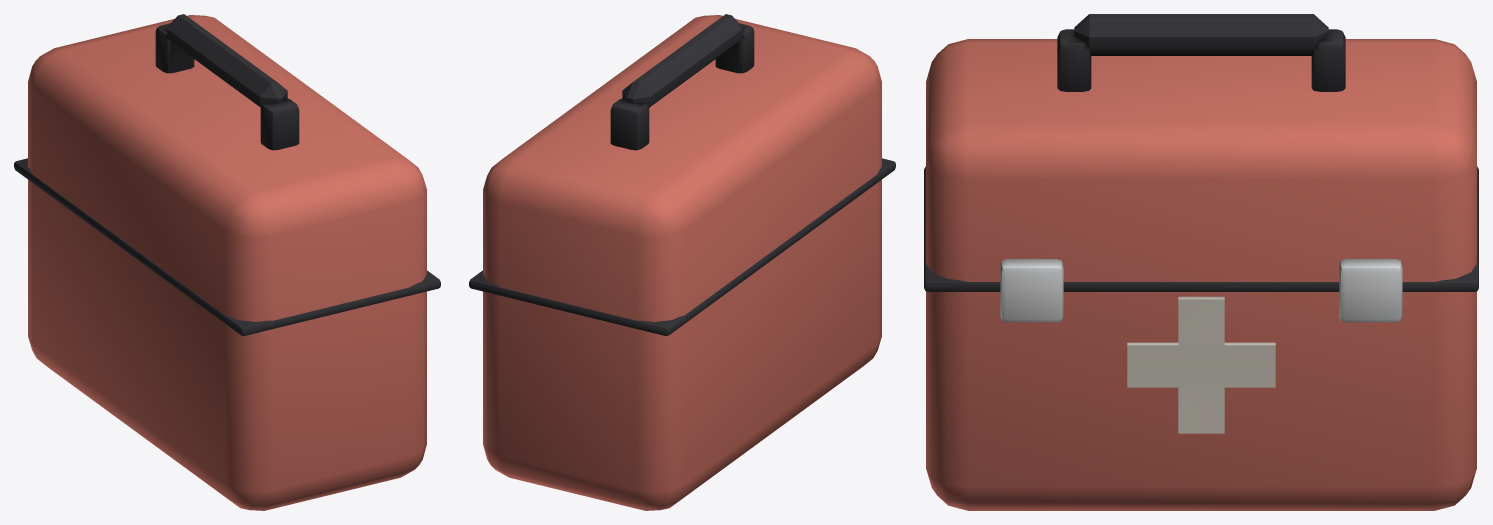
File: nd_first_aid.glb
The picture shows the model from 3 angles, left to right: view 1: azimuth 30°, elevation 25°; view 2: azimuth 150°, elevation 25°; view 3: azimuth 270°, elevation 25°; orthographic projection. The views are drawn at different scales.
Parts seen in each view (by area): view 1: PART; view 2: PART; view 3: PART.
Boxes of the visible parts, left/top/right/bottom form: PART: left=14, top=14, right=440, bottom=510; PART: left=469, top=14, right=895, bottom=510; PART: left=924, top=14, right=1478, bottom=510.
Size of the model in its own units: 0.141 by 0.235 by 0.262.
